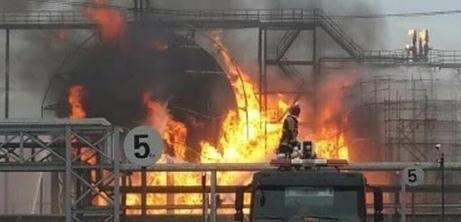fire: (128, 27, 362, 222), (59, 81, 104, 207), (81, 0, 129, 41)
